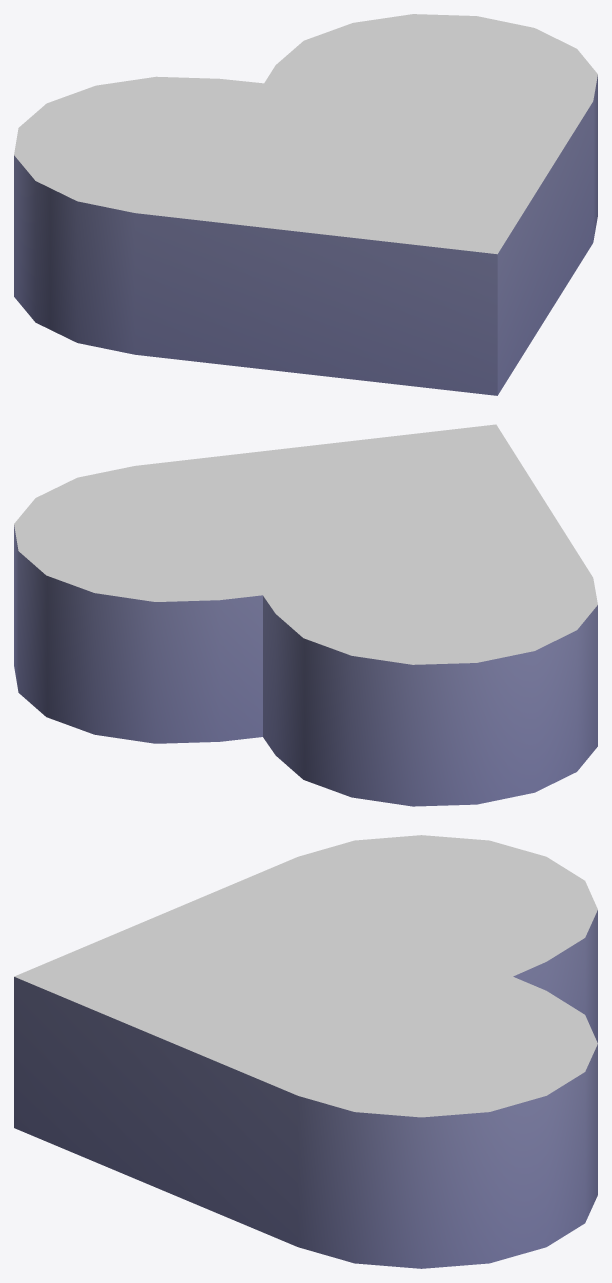
File: shape-heart.glb
The picture shows the model from 3 angles, top to bottom: view 1: azimuth 30°, elevation 25°; view 2: azimuth 150°, elevation 25°; view 3: azimuth 270°, elevation 25°; orthographic projection. The views are drawn at different scales.
Visible parts, largest first — view 1: shape-heart; view 2: shape-heart; view 3: shape-heart.
Part boxes in pixels (left/top/right/bottom): shape-heart: left=14, top=14, right=597, bottom=395; shape-heart: left=14, top=424, right=597, bottom=806; shape-heart: left=14, top=835, right=597, bottom=1268.
Bounding box in the file's own units: 0.25 × 0.0625 × 0.2185.
